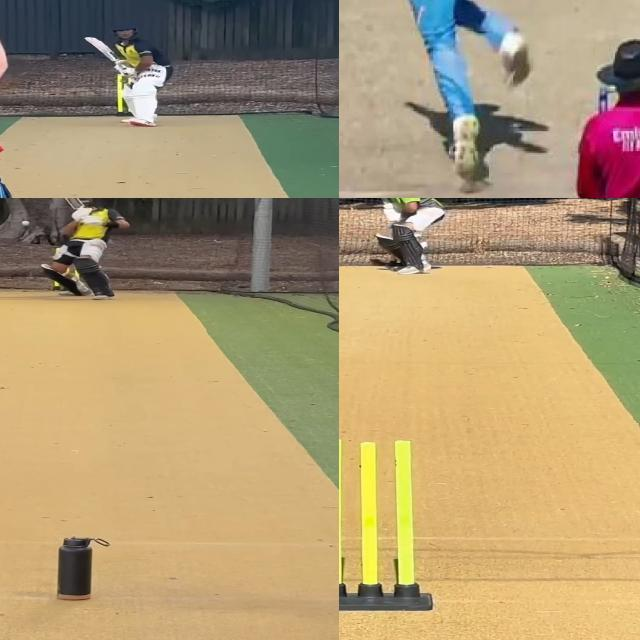Cricket ball: (20, 219, 32, 227)
Stumps: (339, 438, 433, 610), (41, 528, 111, 599)
